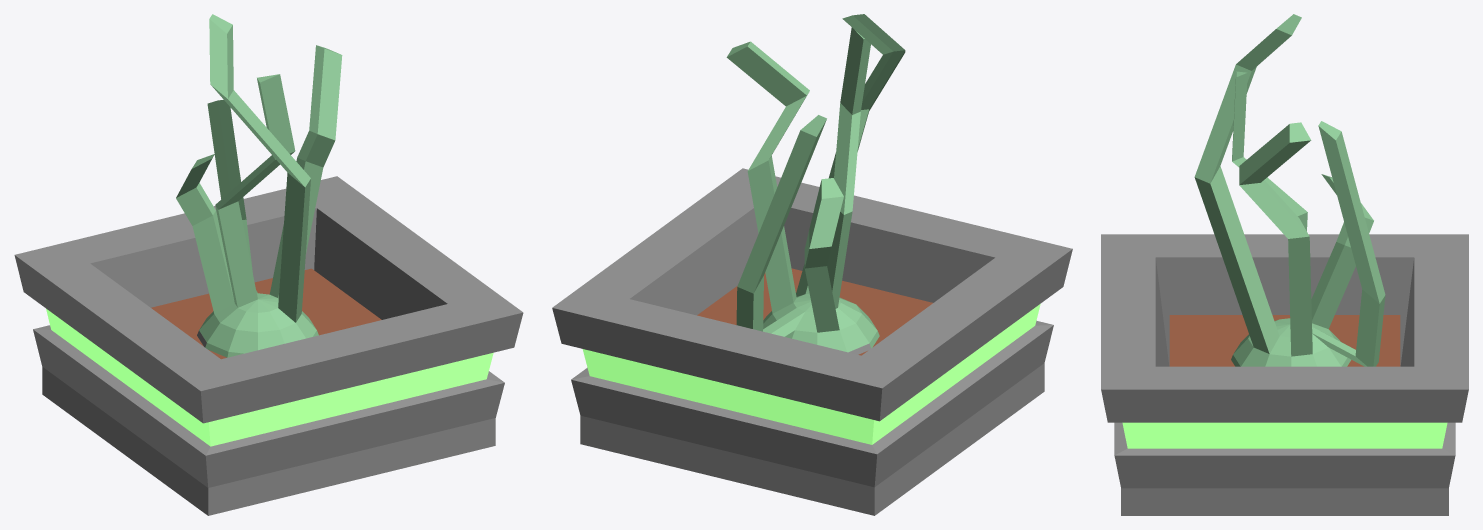
File: SciFiPot.fbx
3 views of the same model, side by side, from view 1: azimuth 30°, elevation 25°; view 2: azimuth 150°, elevation 25°; view 3: azimuth 270°, elevation 25° (orthographic). The views are drawn at different scales.
Parts seen in each view (by area): view 1: SciFiPot; view 2: SciFiPot; view 3: SciFiPot.
Part boxes in pixels (x1=…): SciFiPot: x1=14, y1=14, x2=523, y2=515; SciFiPot: x1=552, y1=14, x2=1072, y2=515; SciFiPot: x1=1101, y1=14, x2=1468, y2=515.
Size of the model in its own units: 224 by 275 by 224.
